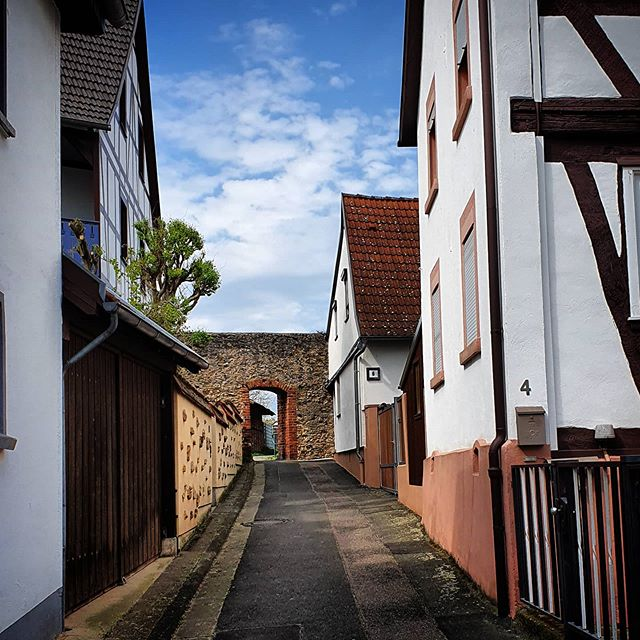building: (396, 5, 640, 608), (1, 1, 191, 559), (324, 206, 415, 474)
sky: (154, 1, 387, 321)
street: (178, 452, 405, 640)
